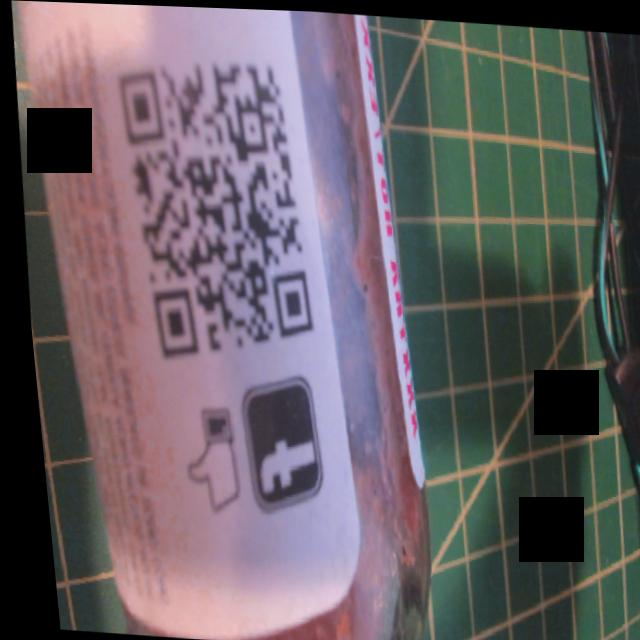QR_CODE: (93, 22, 329, 391)
